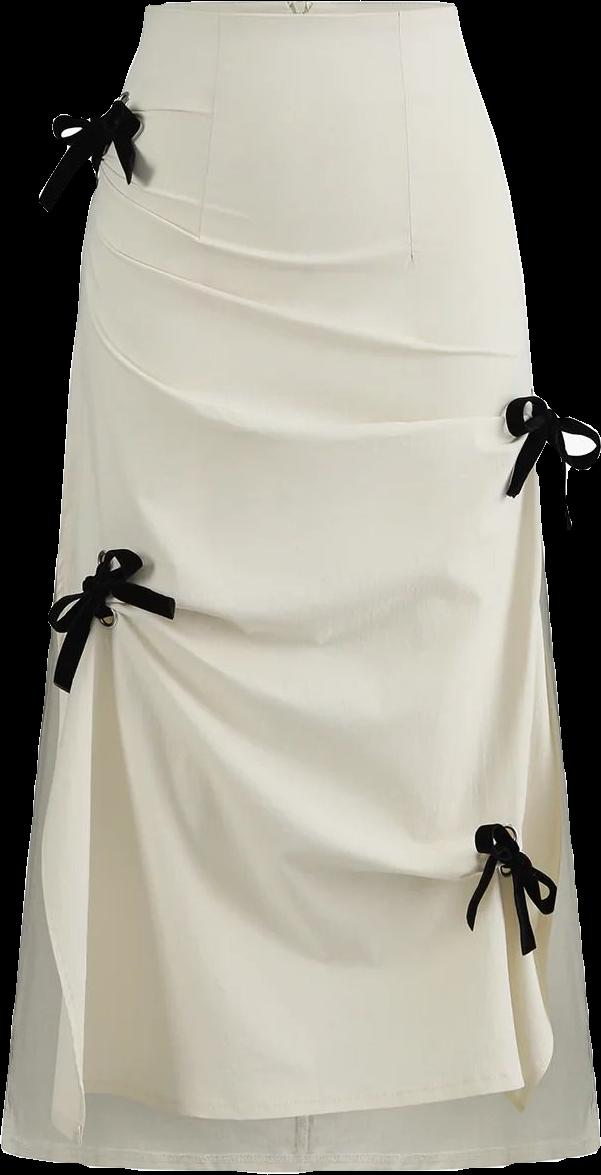Hemline: (39, 467, 565, 1142)
Waistline: (142, 0, 459, 21)
